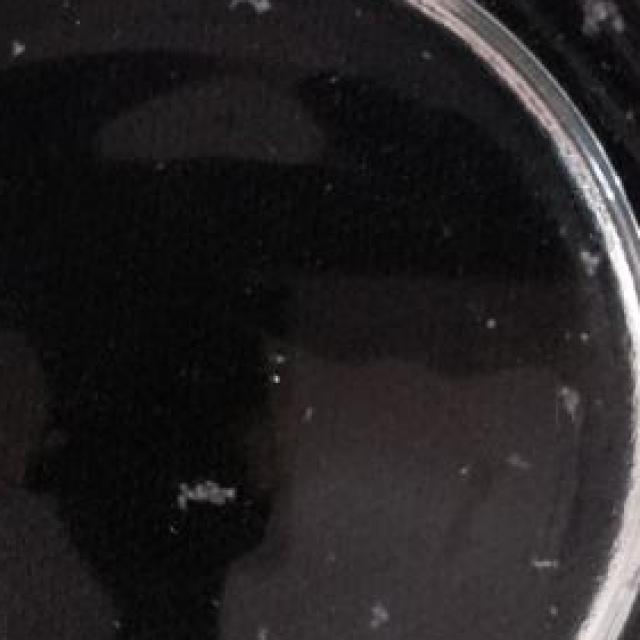Microplastic: (166, 466, 246, 521), (355, 576, 417, 640), (567, 0, 636, 48), (522, 533, 576, 590), (567, 233, 613, 290), (558, 376, 594, 442), (214, 0, 280, 24)
